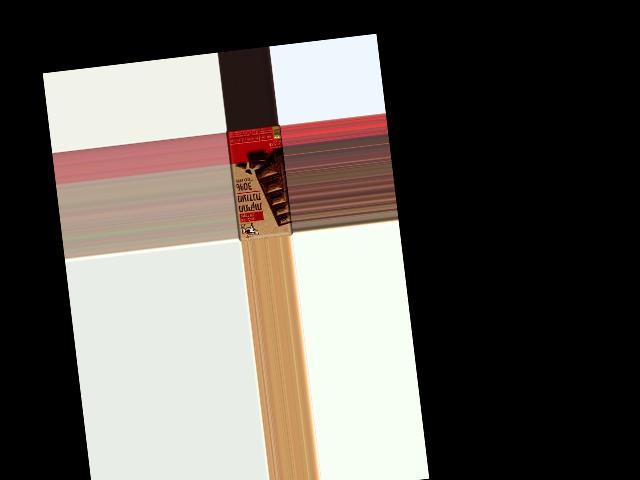chocolate: (225, 125, 292, 241)
